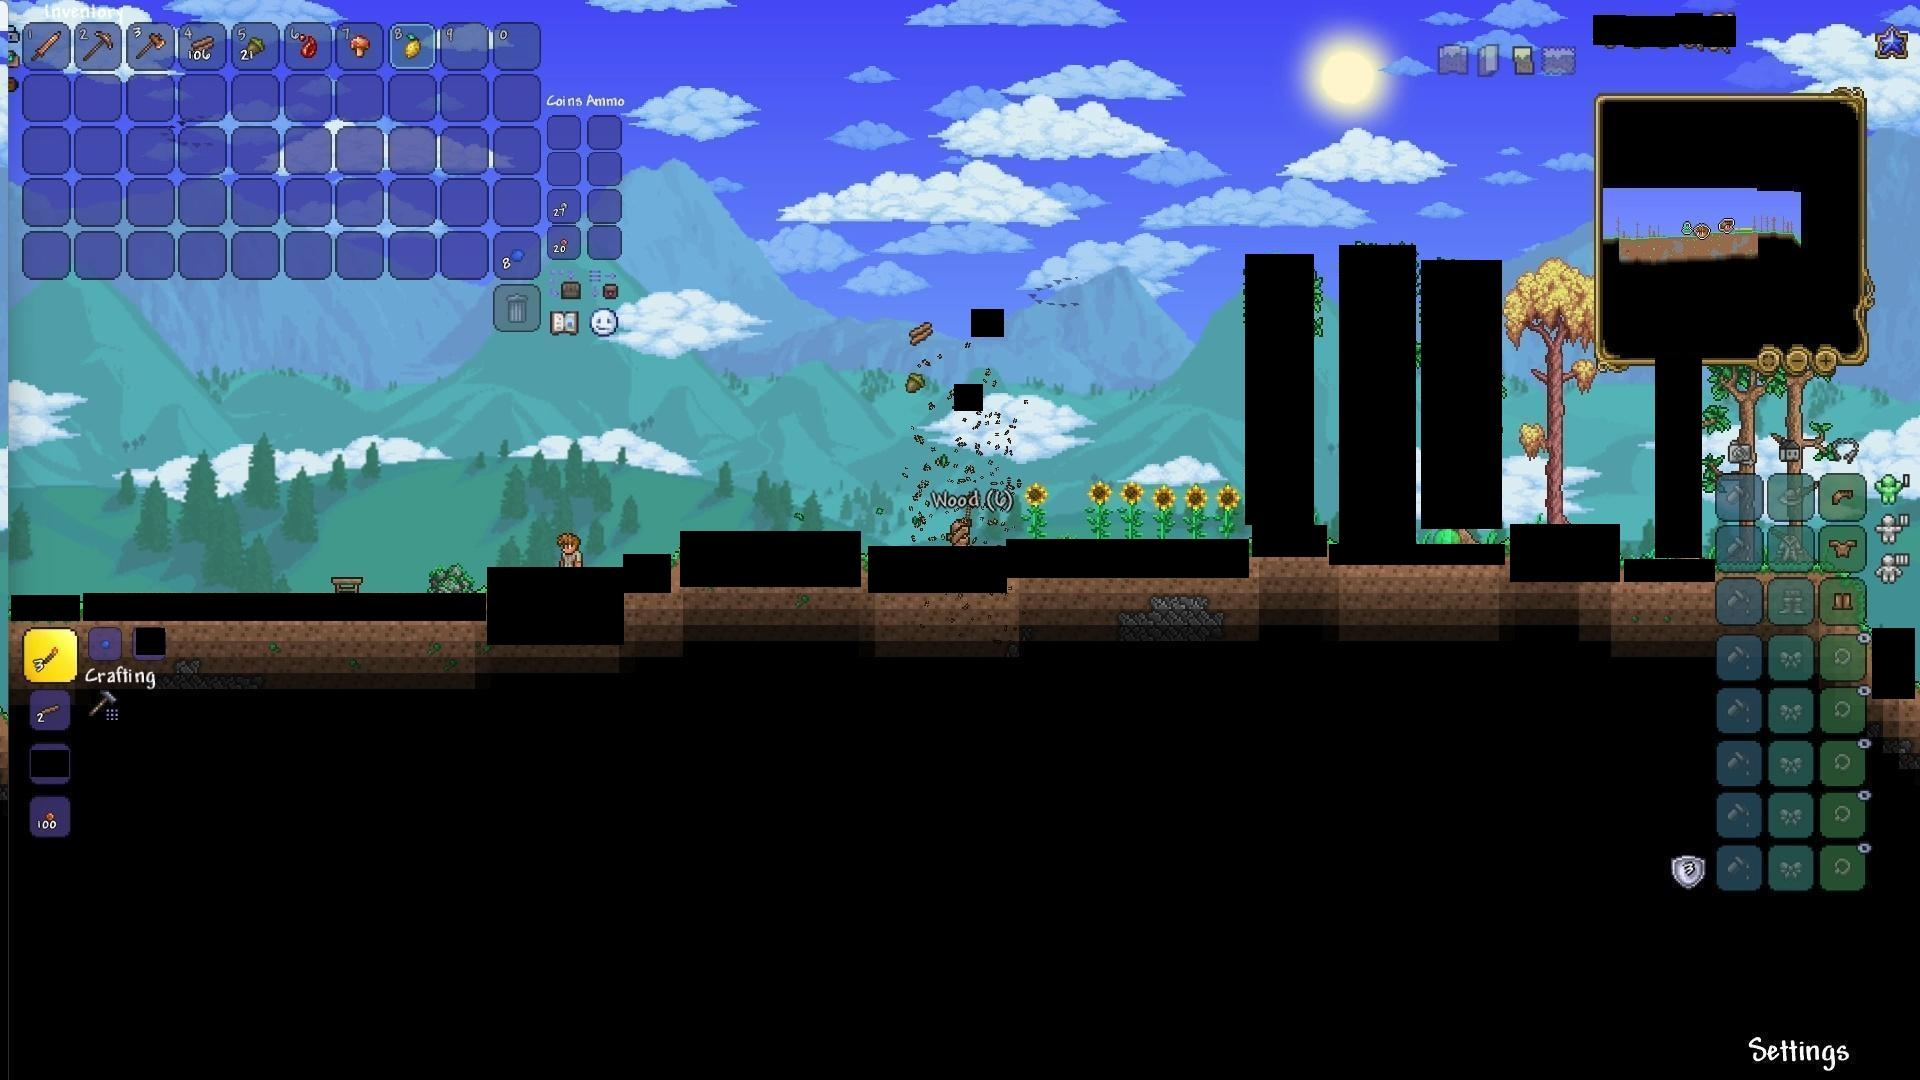breastplate: (1830, 538, 1859, 558)
helmet: (1829, 484, 1858, 509)
legs: (1832, 588, 1855, 615)
slime: (1431, 527, 1465, 553)
tree: (1509, 261, 1594, 524)
wood: (906, 319, 938, 343), (189, 34, 216, 61)
workbench: (326, 571, 363, 596)
